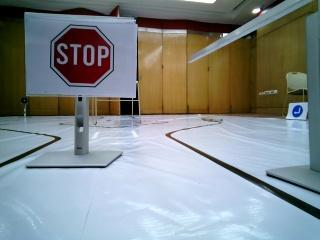stop: (28, 18, 132, 89)
